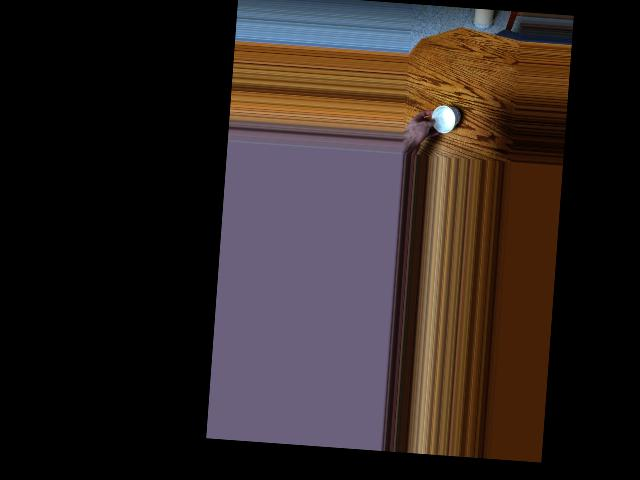cotage: (427, 104, 456, 136)
